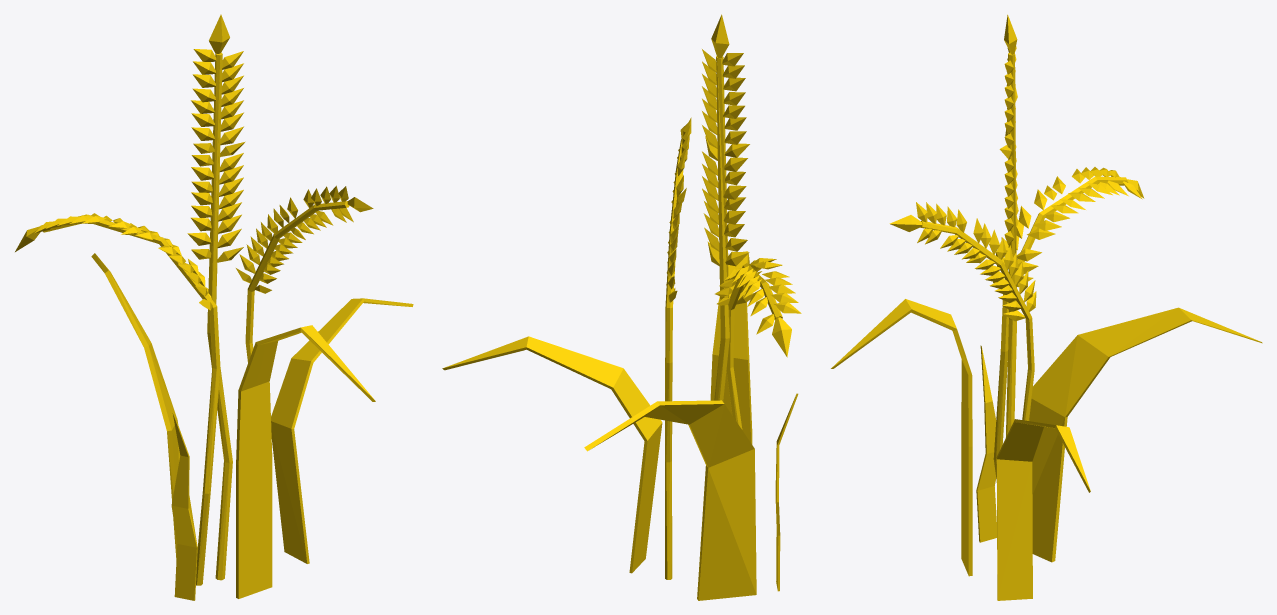
File: wheat1.glb
3 views of the same model, side by side, from view 1: azimuth 30°, elevation 25°; view 2: azimuth 150°, elevation 25°; view 3: azimuth 270°, elevation 25° (orthographic). The views are drawn at different scales.
Parts seen in each view (by area): view 1: wheat1; view 2: wheat1; view 3: wheat1.
Boxes of the visible parts, left/top/right/bottom form: wheat1: left=15, top=14, right=413, bottom=600; wheat1: left=442, top=14, right=801, bottom=600; wheat1: left=831, top=14, right=1262, bottom=600.
Bounding box in the file's own units: 0.8372 × 1.22 × 0.8726.
Materials: 1 (1 with a texture image).
